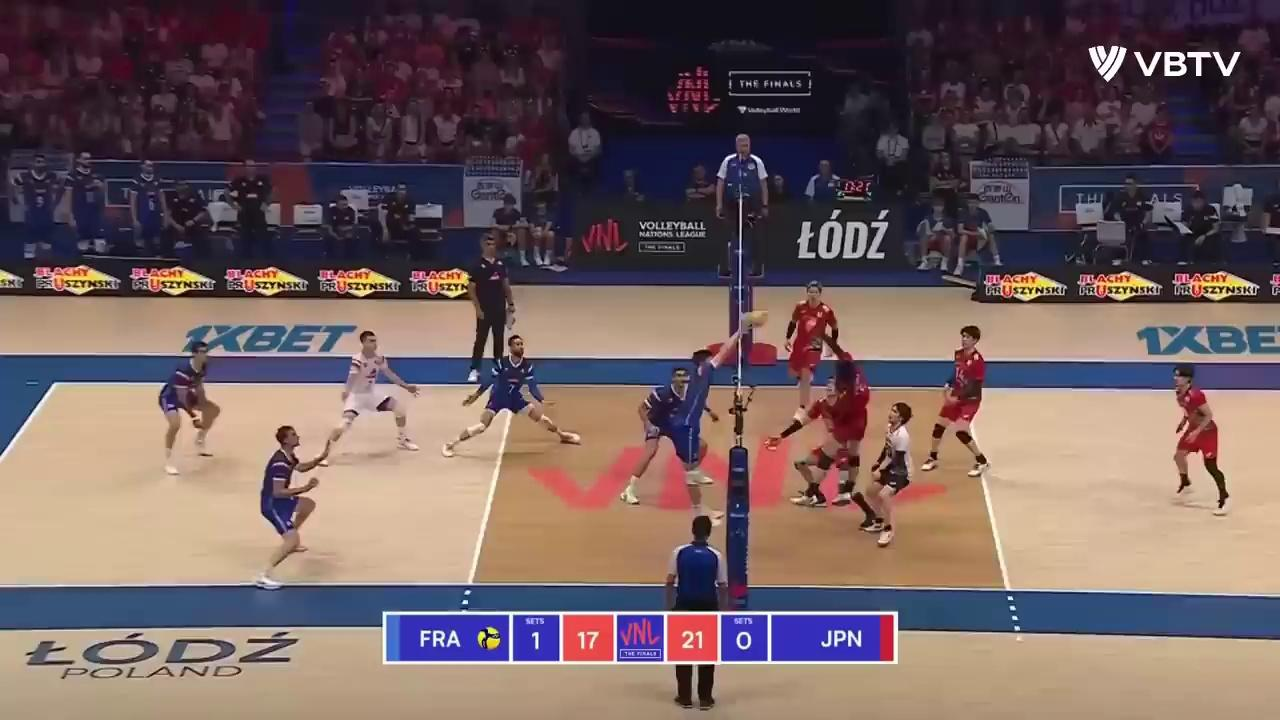ball: (742, 311, 770, 330)
